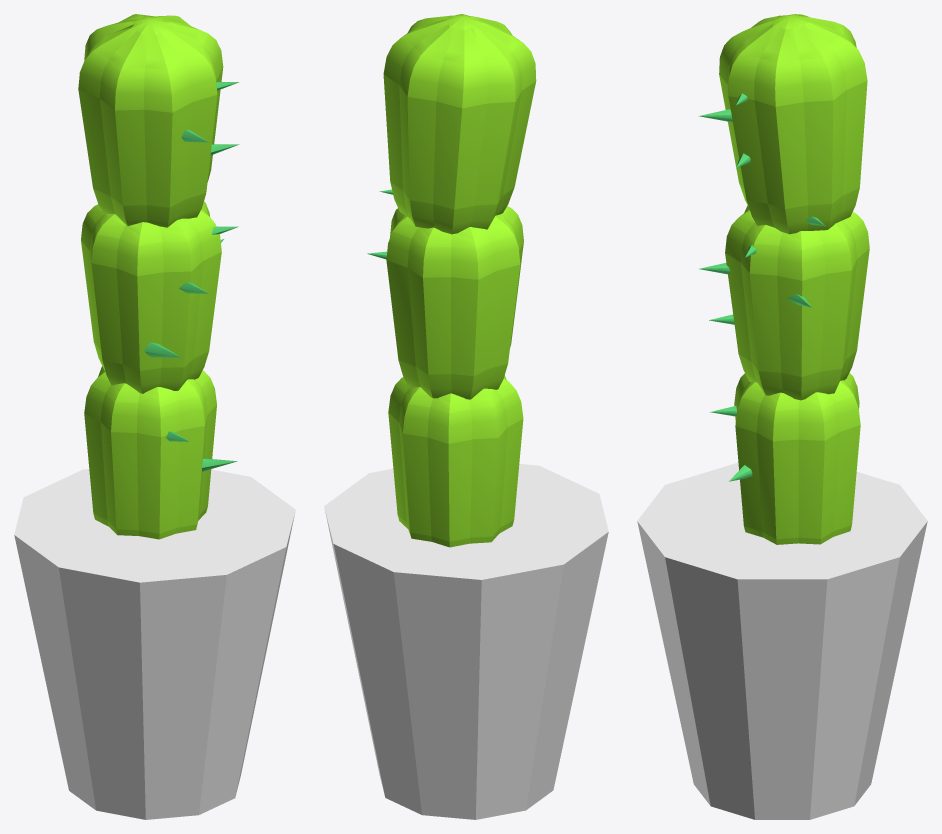
File: y_çiçek.obj
3 views of the same model, side by side, from view 1: azimuth 30°, elevation 25°; view 2: azimuth 150°, elevation 25°; view 3: azimuth 270°, elevation 25° (orthographic).
Parts seen in each view (by area): view 1: Cylinder.108_m_beyaz, Cylinder.108_m_açıkgreen, Cylinder.108_m_yeşil; view 2: Cylinder.108_m_beyaz, Cylinder.108_m_açıkgreen; view 3: Cylinder.108_m_beyaz, Cylinder.108_m_açıkgreen, Cylinder.108_m_yeşil.
Part boxes in pixels (x1=…): Cylinder.108_m_beyaz: x1=14, y1=469, x2=295, y2=819; Cylinder.108_m_açıkgreen: x1=78, y1=14, x2=223, y2=539; Cylinder.108_m_yeşil: x1=144, y1=82, x2=239, y2=471; Cylinder.108_m_beyaz: x1=324, y1=464, x2=608, y2=819; Cylinder.108_m_açıkgreen: x1=383, y1=14, x2=536, y2=547; Cylinder.108_m_beyaz: x1=637, y1=462, x2=927, y2=819; Cylinder.108_m_açıkgreen: x1=719, y1=14, x2=869, y2=544; Cylinder.108_m_yeşil: x1=698, y1=93, x2=825, y2=481.
Size of the model in its own units: 5.24 by 16.07 by 5.51.
